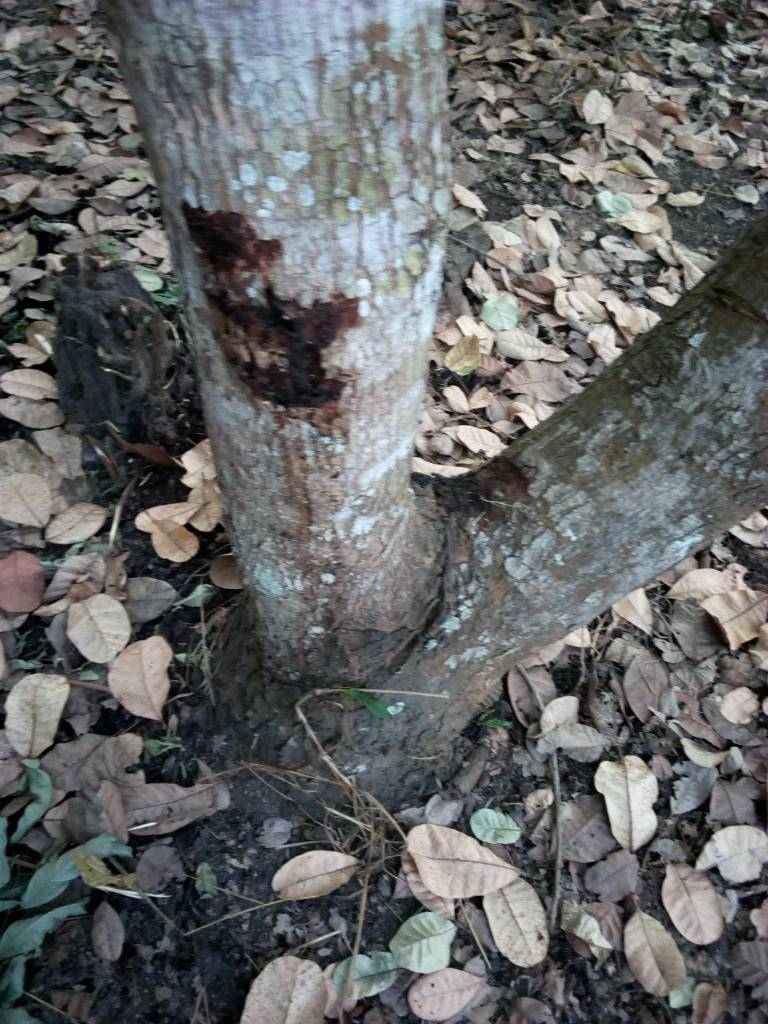Gommose: (182, 202, 355, 419)
